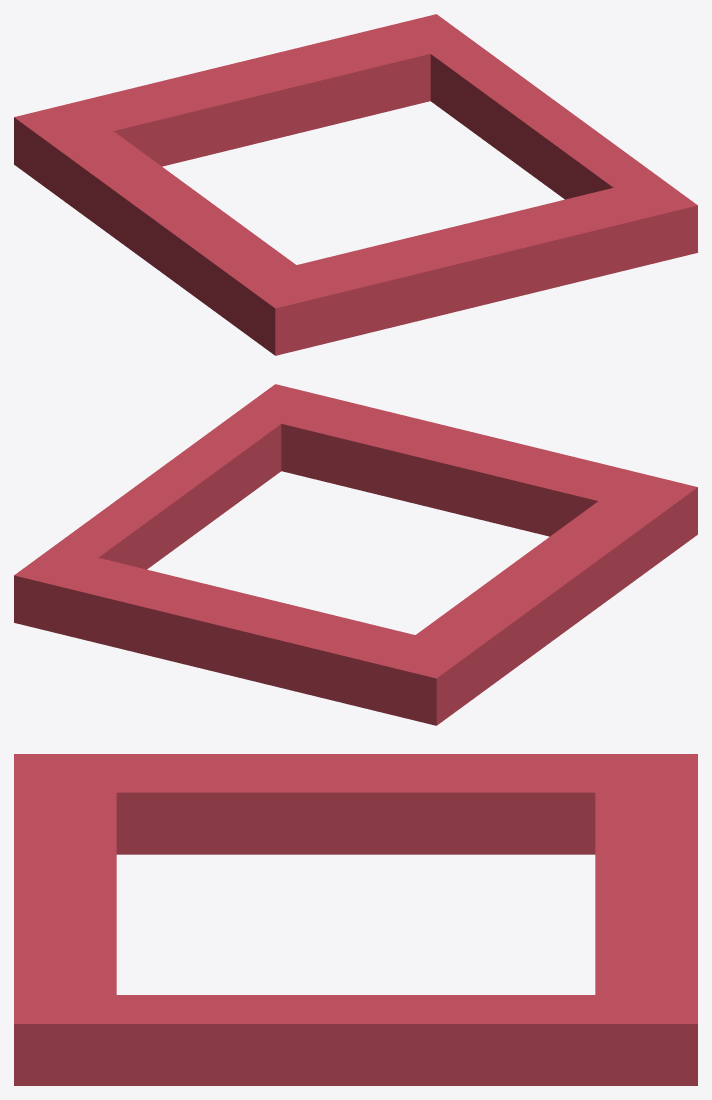
The model's file is forat_quadrat.glb.
The picture shows the model from 3 angles, top to bottom: view 1: azimuth 30°, elevation 25°; view 2: azimuth 150°, elevation 25°; view 3: azimuth 270°, elevation 25°; orthographic projection. The views are drawn at different scales.
Parts seen in each view (by area): view 1: Mesh_Mesh_head_geo.001_lambert2SG.001; view 2: Mesh_Mesh_head_geo.001_lambert2SG.001; view 3: Mesh_Mesh_head_geo.001_lambert2SG.001.
Boxes of the visible parts, x1,y1,x2,y2 form: Mesh_Mesh_head_geo.001_lambert2SG.001: (14, 14, 697, 355); Mesh_Mesh_head_geo.001_lambert2SG.001: (14, 384, 697, 725); Mesh_Mesh_head_geo.001_lambert2SG.001: (14, 754, 697, 1085).
Bounding box in the file's own units: 28 × 3 × 30.
